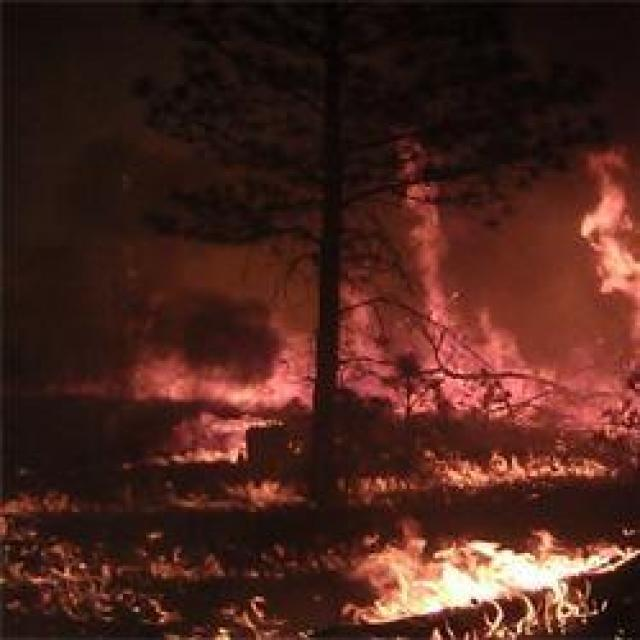Fire: (373, 181, 640, 484), (349, 521, 632, 638)
